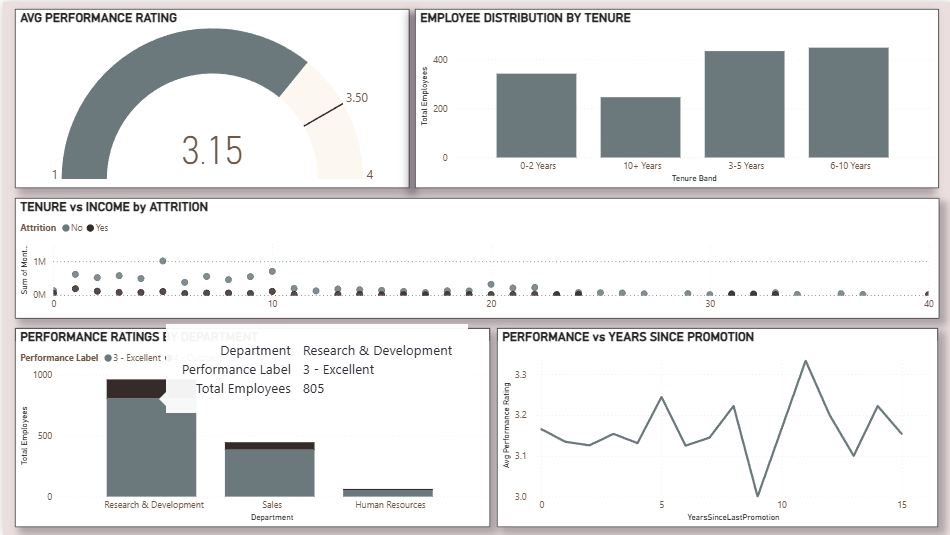

Layout of this report page (visuals, bound fields, positions):
{"tool":"powerbi","page":{"name":"Performance & Tenure","canvas":[1280,720],"ordinal":3},"visuals":[{"type":"gauge","title":"AVG PERFORMANCE RATING","fields":{"Y":["HR_Employee_dataset.Avg Performance Rating"],"MinValue":["DateTable.// For Minimum (always 1)Min Performance"],"MaxValue":["DateTable.// For Maximum (always 4)  Max Performance"],"TargetValue":["DateTable.// For Target (optional - set to 3.5)Target Performance"]},"box":[15.7,10,533.5,241.7],"z":0},{"type":"columnChart","title":"EMPLOYEE DISTRIBUTION BY TENURE","fields":{"Category":["HR_Employee_dataset.Tenure Band"],"Y":["HR_Employee_dataset.Total Employees"]},"box":[556.3,10,707.9,241.7],"z":1000},{"type":"scatterChart","title":"TENURE vs INCOME by ATTRITION","fields":{"X":["HR_Employee_dataset.YearsAtCompany"],"Y":["Sum(HR_Employee_dataset.MonthlyIncome)"],"Series":["HR_Employee_dataset.Attrition"]},"box":[15.7,264.6,1248.5,163],"z":2000},{"type":"columnChart","title":"PERFORMANCE RATINGS BY DEPARTMENT","fields":{"Category":["HR_Employee_dataset.Department"],"Y":["HR_Employee_dataset.Total Employees"],"Series":["HR_Employee_dataset.Performance Label"]},"box":[15.7,440.5,642.1,268.9],"z":3000},{"type":"lineChart","title":"PERFORMANCE vs YEARS SINCE PROMOTION","fields":{"Category":["HR_Employee_dataset.YearsSinceLastPromotion"],"Y":["HR_Employee_dataset.Avg Performance Rating"]},"box":[667.9,440.5,596.4,268.9],"z":4000}]}

Visuals, with their boxes in screenshot pixels (x1, y1, x2, y2), scaled from the page's 1280x720 canvas onto the 950x535 screenshot:
"AVG PERFORMANCE RATING" gauge: pyautogui.locateOnScreen(12, 7, 408, 187)
"EMPLOYEE DISTRIBUTION BY TENURE" columnChart: pyautogui.locateOnScreen(413, 7, 938, 187)
"TENURE vs INCOME by ATTRITION" scatterChart: pyautogui.locateOnScreen(12, 197, 938, 318)
"PERFORMANCE RATINGS BY DEPARTMENT" columnChart: pyautogui.locateOnScreen(12, 327, 488, 527)
"PERFORMANCE vs YEARS SINCE PROMOTION" lineChart: pyautogui.locateOnScreen(496, 327, 938, 527)
